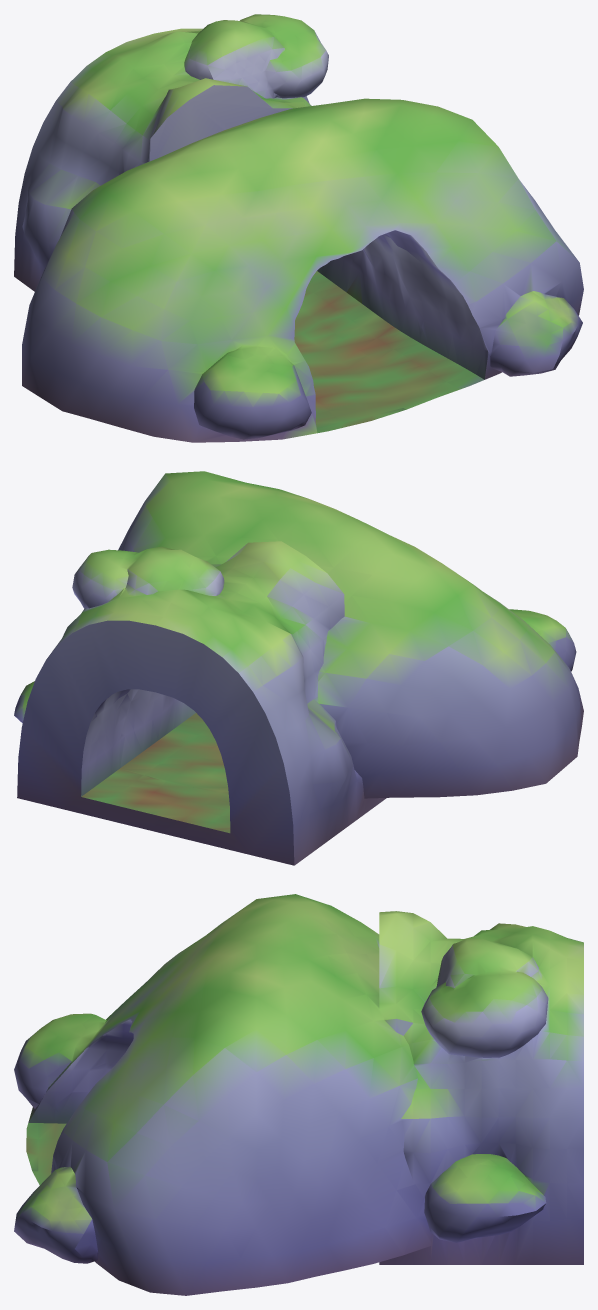
Rendered from verdant_cave_mouth.glb.
3 views of the same model, one above another, from view 1: azimuth 30°, elevation 25°; view 2: azimuth 150°, elevation 25°; view 3: azimuth 270°, elevation 25° (orthographic). The views are drawn at different scales.
Visible parts, largest first — view 1: verdant_cave_mouth; view 2: verdant_cave_mouth; view 3: verdant_cave_mouth.
Boxes of the visible parts, left/top/right/bottom form: verdant_cave_mouth: left=14, top=14, right=583, bottom=442; verdant_cave_mouth: left=14, top=471, right=583, bottom=865; verdant_cave_mouth: left=14, top=894, right=583, bottom=1295.
Bounding box in the file's own units: 18.42 × 8.52 × 16.71.
